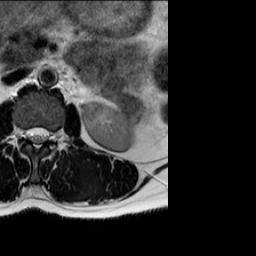CCS_normal: (33, 117, 41, 158)
LFS_normal: (49, 120, 57, 148)
LLS_normal: (41, 118, 49, 149)
RFS_normal: (17, 117, 25, 146)
RLS_normal: (25, 118, 33, 150)
